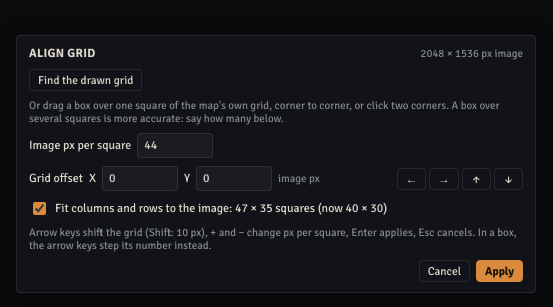
Test case: The Align grid panel › finds the drawn grid on the stored copy and measures it in the file's own pixels
Click the button "Find the drawn grid" at (86, 80), box [29, 69, 142, 91]
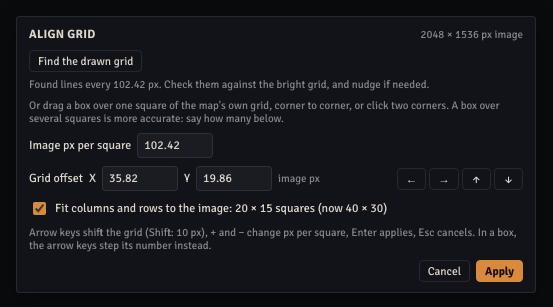
expect the message shows "Found lines every": met, box [29, 78, 429, 91]
